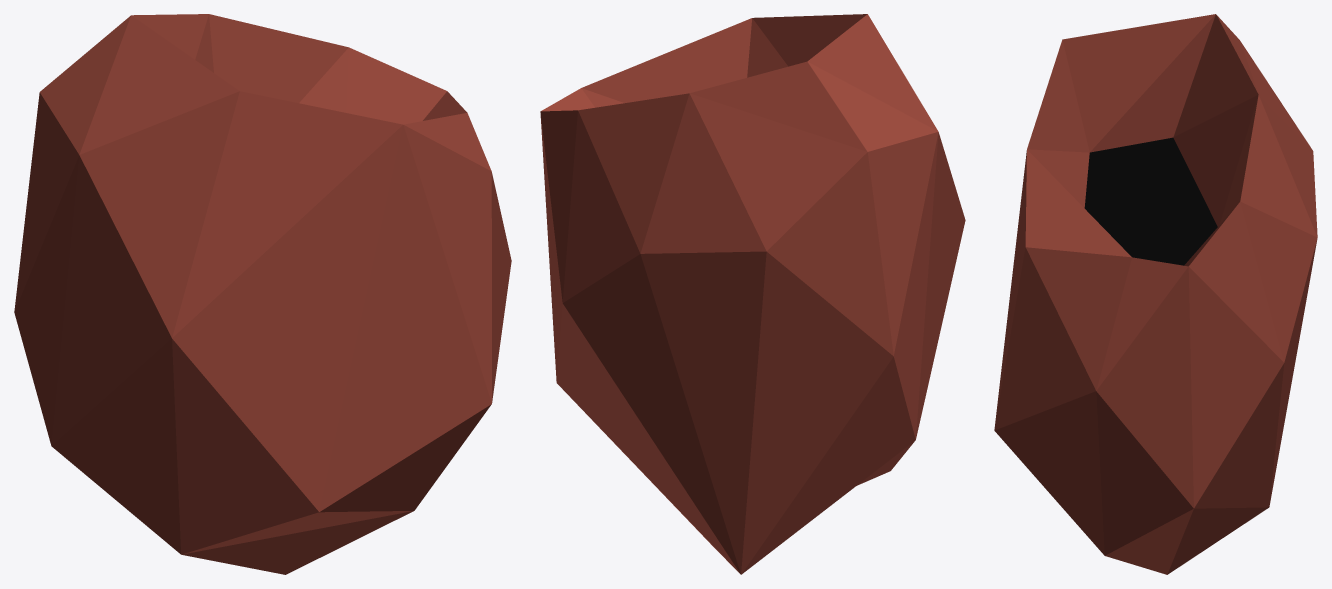
File: pitted_cherry_1.fbx
3 views of the same model, side by side, from view 1: azimuth 30°, elevation 25°; view 2: azimuth 150°, elevation 25°; view 3: azimuth 270°, elevation 25° (orthographic). The views are drawn at different scales.
Parts seen in each view (by area): view 1: Cherry_fruit3; view 2: Cherry_fruit3; view 3: Cherry_fruit3.
Boxes of the visible parts, x1,y1,x2,y2 form: Cherry_fruit3: [14, 14, 511, 574]; Cherry_fruit3: [540, 14, 965, 574]; Cherry_fruit3: [994, 14, 1317, 574].
Size of the model in its own units: 11.14 by 14.55 by 8.42.
